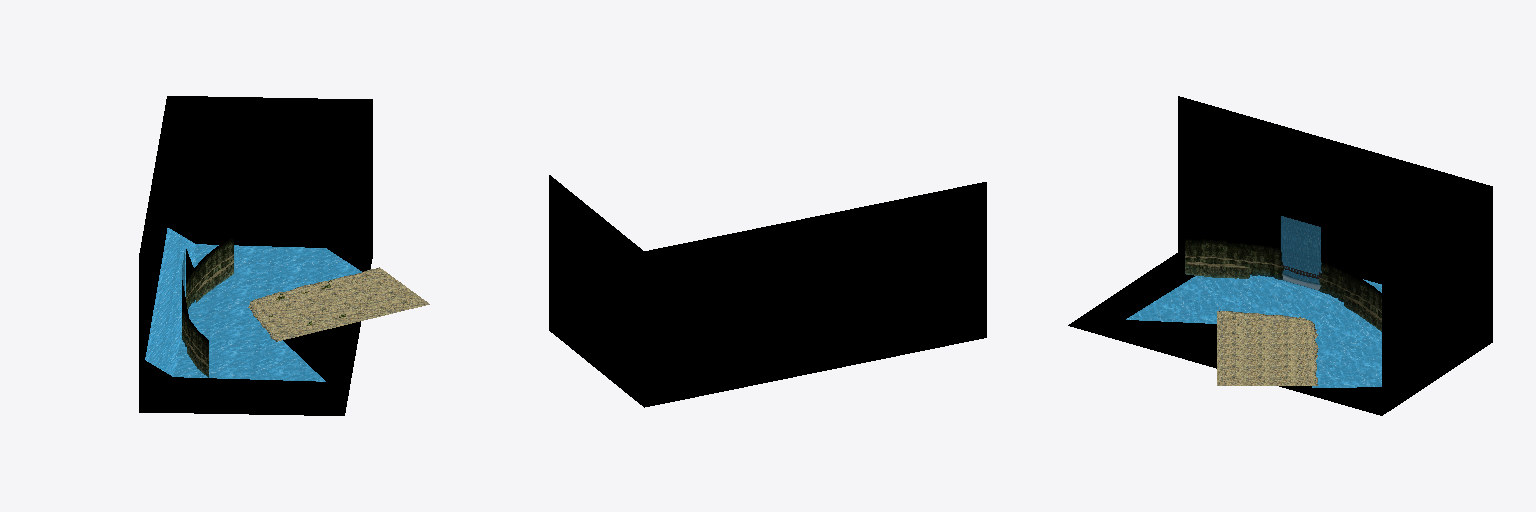
3 renders of one model, left to right at view 1: azimuth 30°, elevation 25°; view 2: azimuth 150°, elevation 25°; view 3: azimuth 270°, elevation 25°, orthographic.
Parts seen in each view (by area): view 1: b20; view 2: b20; view 3: b20.
Part boxes in pixels (x1,y1,x2,y2): b20: (139, 96, 429, 415); b20: (549, 175, 986, 407); b20: (1068, 96, 1492, 415).
Bounding box in the file's own units: 534 × 237 × 585.
6 materials, 5 textured.